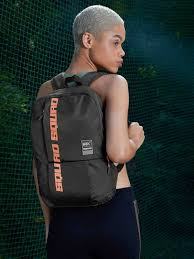backpack: (30, 70, 119, 208)
